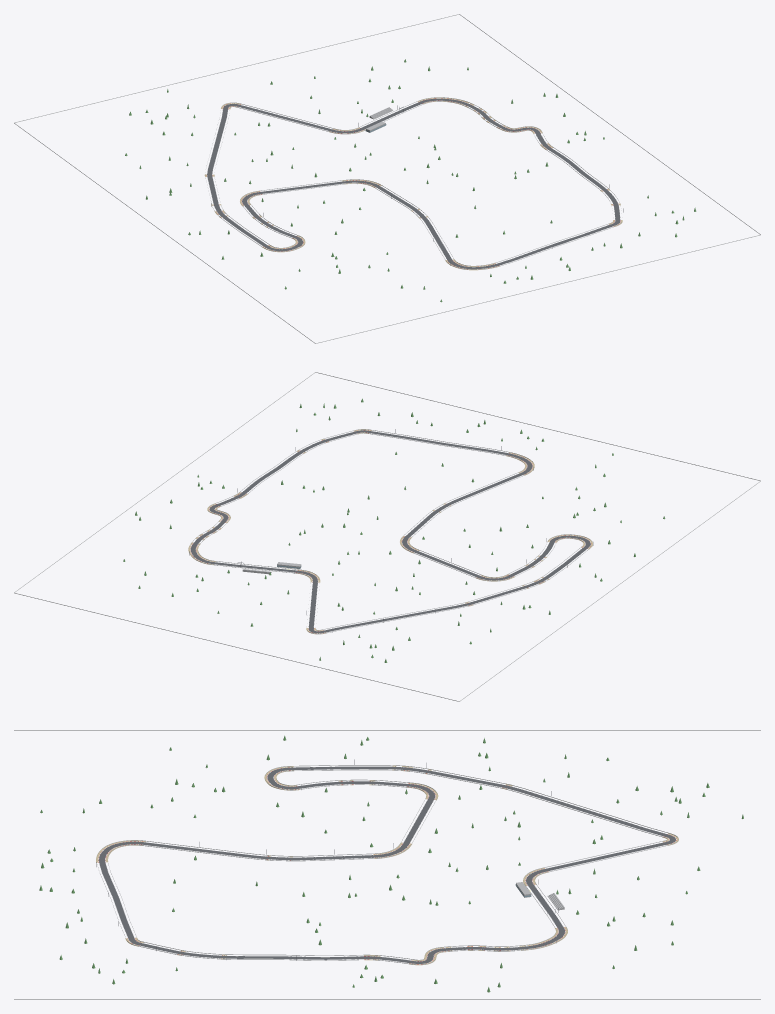
Rendered from laguna.glb.
3 views of the same model, one above another, from view 1: azimuth 30°, elevation 25°; view 2: azimuth 150°, elevation 25°; view 3: azimuth 270°, elevation 25° (orthographic). The views are drawn at different scales.
Visible parts, largest first — view 1: laguna.tarmac, laguna.barrier, laguna.foliage, laguna.gravel; view 2: laguna.tarmac, laguna.barrier, laguna.foliage, laguna.gravel; view 3: laguna.tarmac, laguna.barrier, laguna.foliage, laguna.gravel.
Part boxes in pixels (x1,y1,x2,y2): laguna.tarmac: (207,98,620,269); laguna.barrier: (14,14,760,343); laguna.foliage: (125,59,696,302); laguna.gravel: (204,97,622,270); laguna.tarmac: (190,430,590,633); laguna.barrier: (14,372,760,701); laguna.foliage: (123,398,665,662); laguna.gravel: (188,429,592,634); laguna.tarmac: (98,766,675,963); laguna.barrier: (14,730,760,999); laguna.foliage: (39,735,743,992); laguna.gravel: (96,765,678,965).
Size of the model in its own units: 1085 by 12.49 by 1273.
